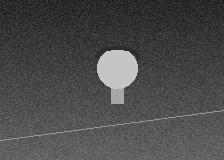no_helmet: (97, 46, 137, 93)
